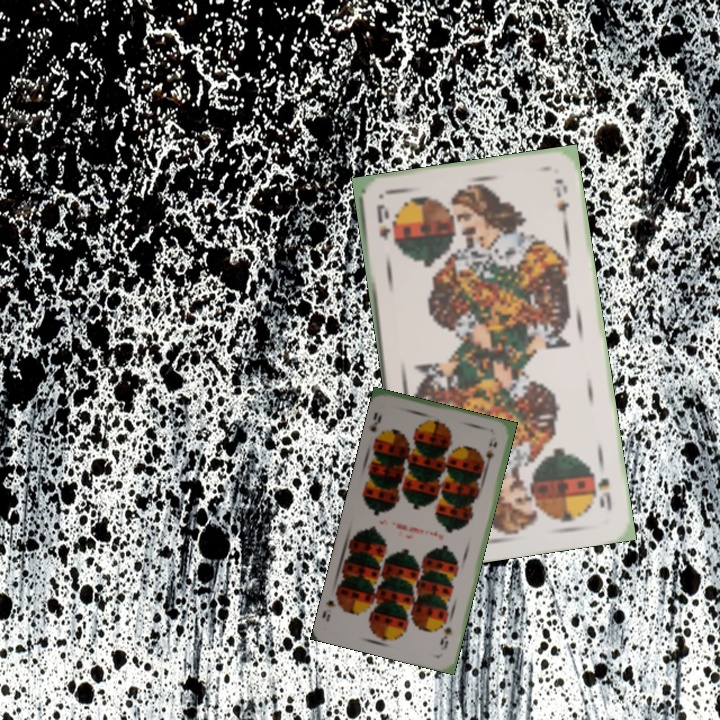S9: (366, 408, 386, 444), (437, 623, 454, 653)
SO: (372, 200, 394, 242), (593, 474, 615, 513)
